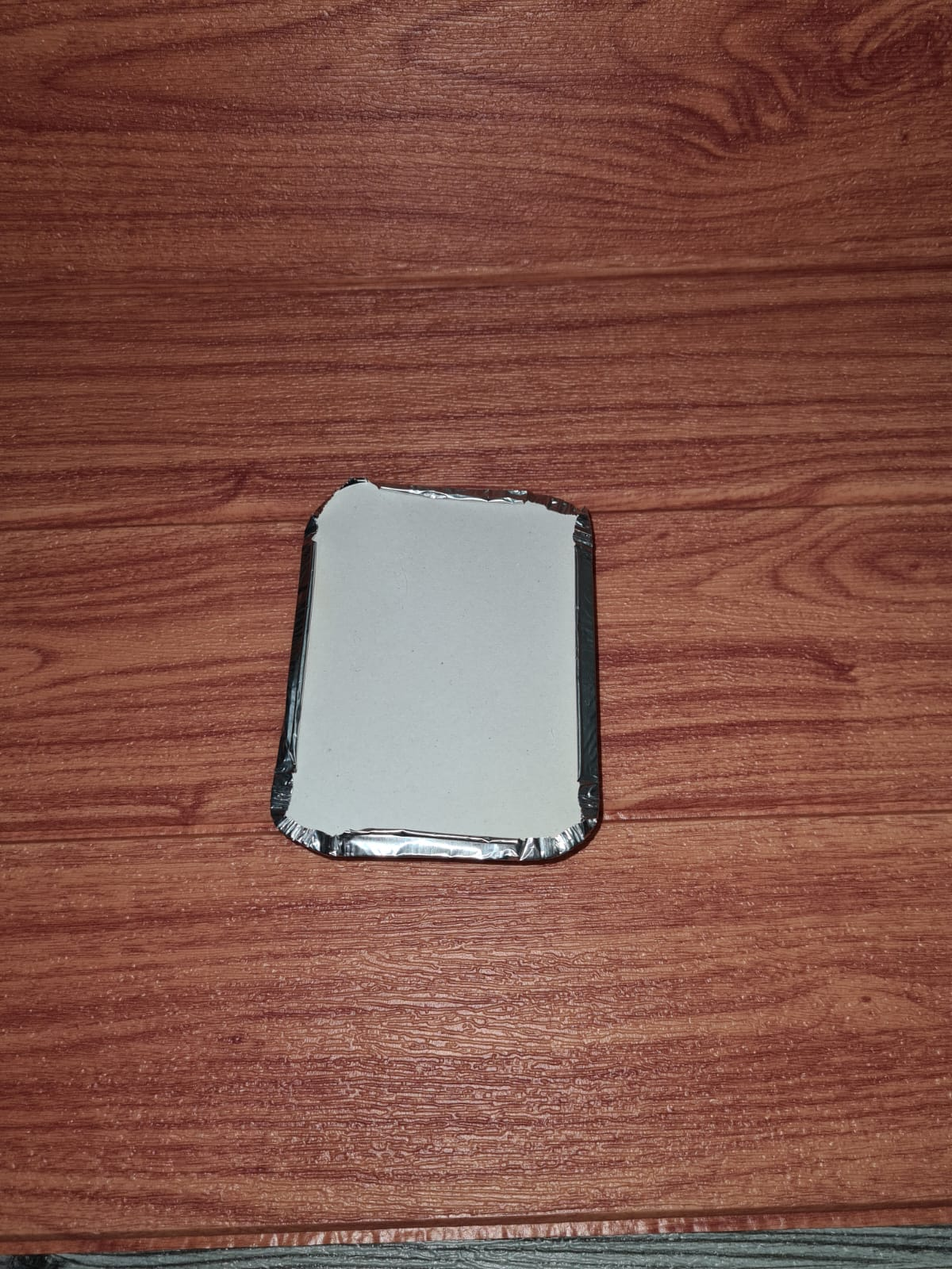Metal: (263, 471, 631, 870)
